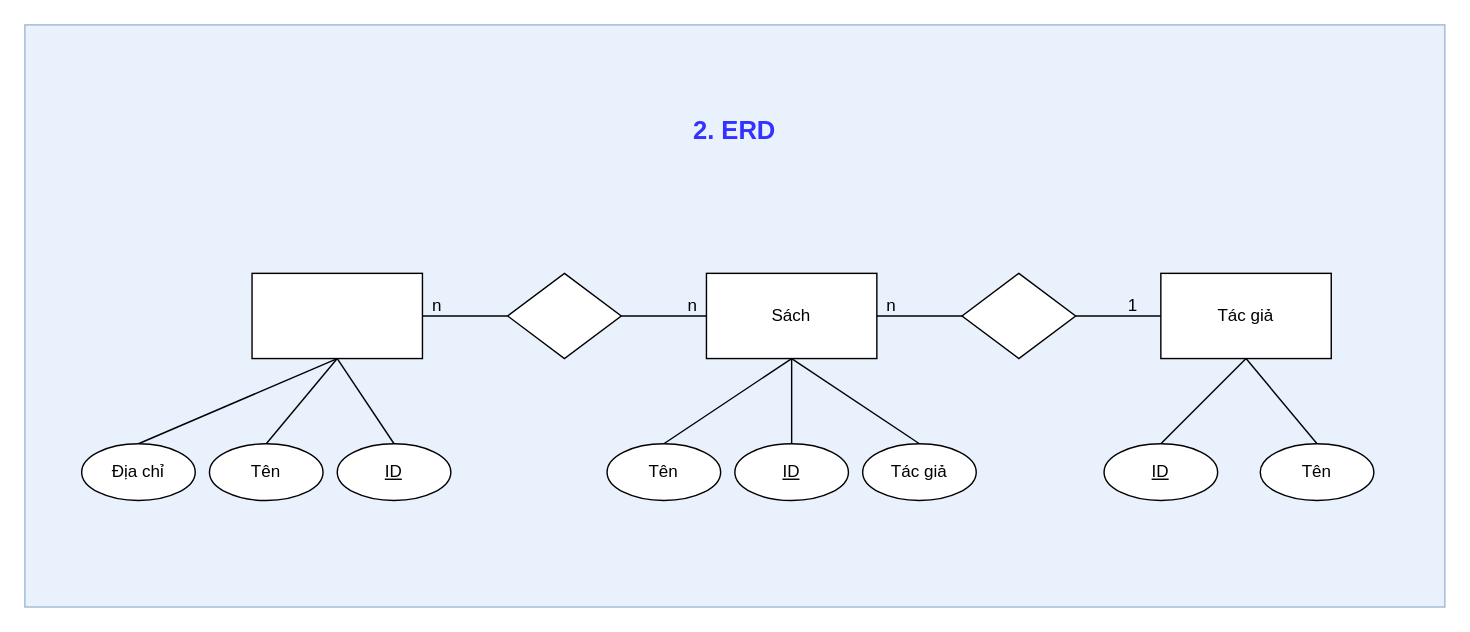
Image size: 1470x632. Some labels were removed from this diagram. The shapes that lost their labels are listed below. From the top down, each one's centre as x and y in pixels, then its label:
At point 336,315: "Nhận viên".
At point 563,315: "Bán".
At point 1018,315: "Viết".
